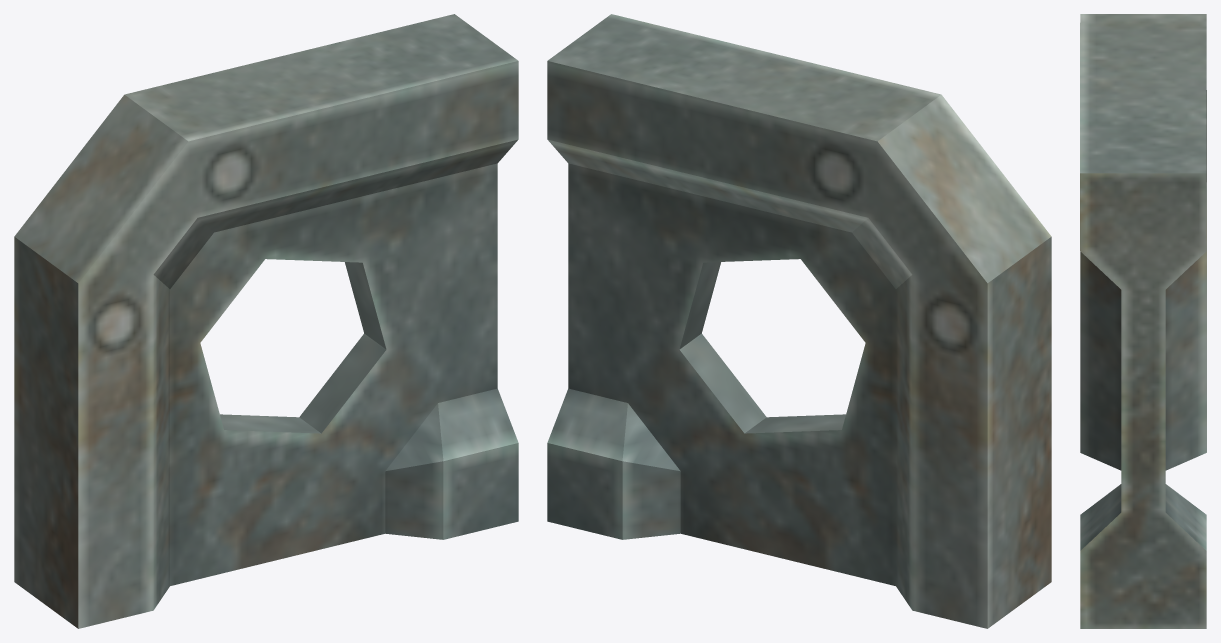
Rendered from Girder_CornerSide.FBX.
3 renders of one model, left to right at view 1: azimuth 30°, elevation 25°; view 2: azimuth 150°, elevation 25°; view 3: azimuth 270°, elevation 25°, orthographic.
Visible parts, largest first — view 1: Girder_CornerSide; view 2: Girder_CornerSide; view 3: Girder_CornerSide.
Boxes of the visible parts, <box> form: Girder_CornerSide: <box>14,14,518,628</box>; Girder_CornerSide: <box>547,14,1051,628</box>; Girder_CornerSide: <box>1080,14,1206,628</box>.
Size of the model in its own units: 100 by 100 by 25.2.
